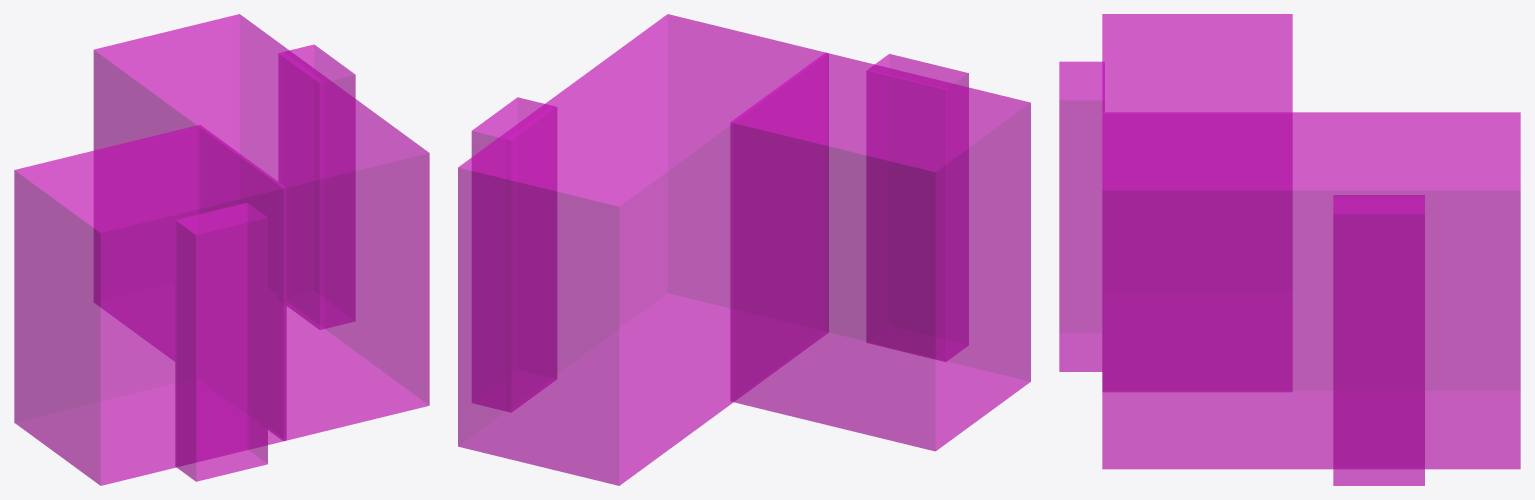
File: SM_Bld_Wall_L_Corner_Half_02_Collision.fbx
The picture shows the model from 3 angles, left to right: view 1: azimuth 30°, elevation 25°; view 2: azimuth 150°, elevation 25°; view 3: azimuth 270°, elevation 25°; orthographic projection. The views are drawn at different scales.
Parts seen in each view (by area): view 1: SM_Bld_Wall_L_Corner_Half_02_Collision; view 2: SM_Bld_Wall_L_Corner_Half_02_Collision; view 3: SM_Bld_Wall_L_Corner_Half_02_Collision.
Part boxes in pixels (x1,y1,x2,y2): SM_Bld_Wall_L_Corner_Half_02_Collision: [14, 14, 429, 485]; SM_Bld_Wall_L_Corner_Half_02_Collision: [458, 14, 1030, 485]; SM_Bld_Wall_L_Corner_Half_02_Collision: [1059, 14, 1520, 485].
Size of the model in its own units: 454 by 305 by 458.
